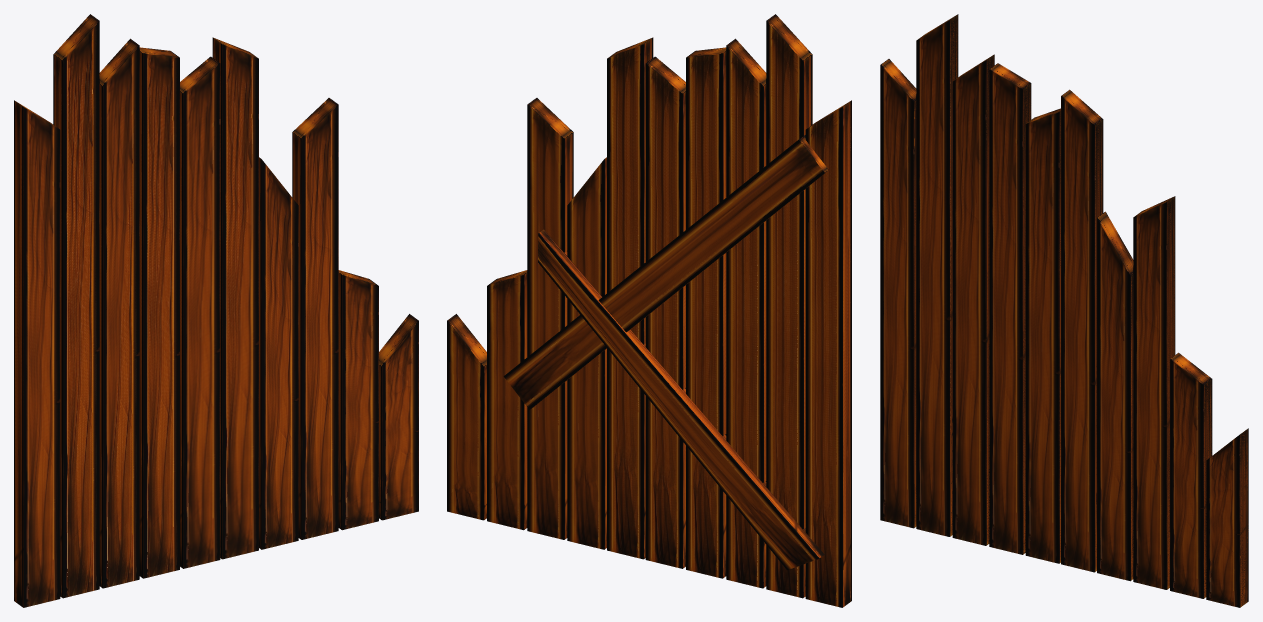
The model's file is broken wall-2.fbx.
3 views of the same model, side by side, from view 1: azimuth 30°, elevation 25°; view 2: azimuth 150°, elevation 25°; view 3: azimuth 330°, elevation 25° (orthographic). The views are drawn at different scales.
Visible parts, largest first — view 1: wall2; view 2: wall2; view 3: wall2.
Part boxes in pixels (x1=…): wall2: x1=14, y1=14, x2=418, y2=607; wall2: x1=447, y1=14, x2=851, y2=607; wall2: x1=880, y1=14, x2=1248, y2=607.
Size of the model in its own units: 410 by 563 by 27.17.
